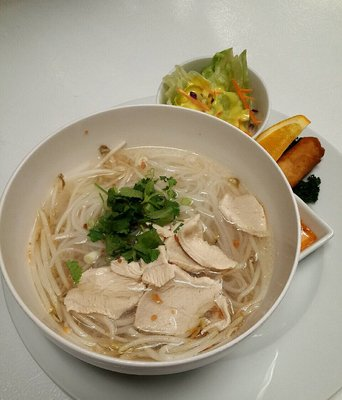curry: (294, 174, 321, 204)
sushi: (6, 104, 315, 395)
